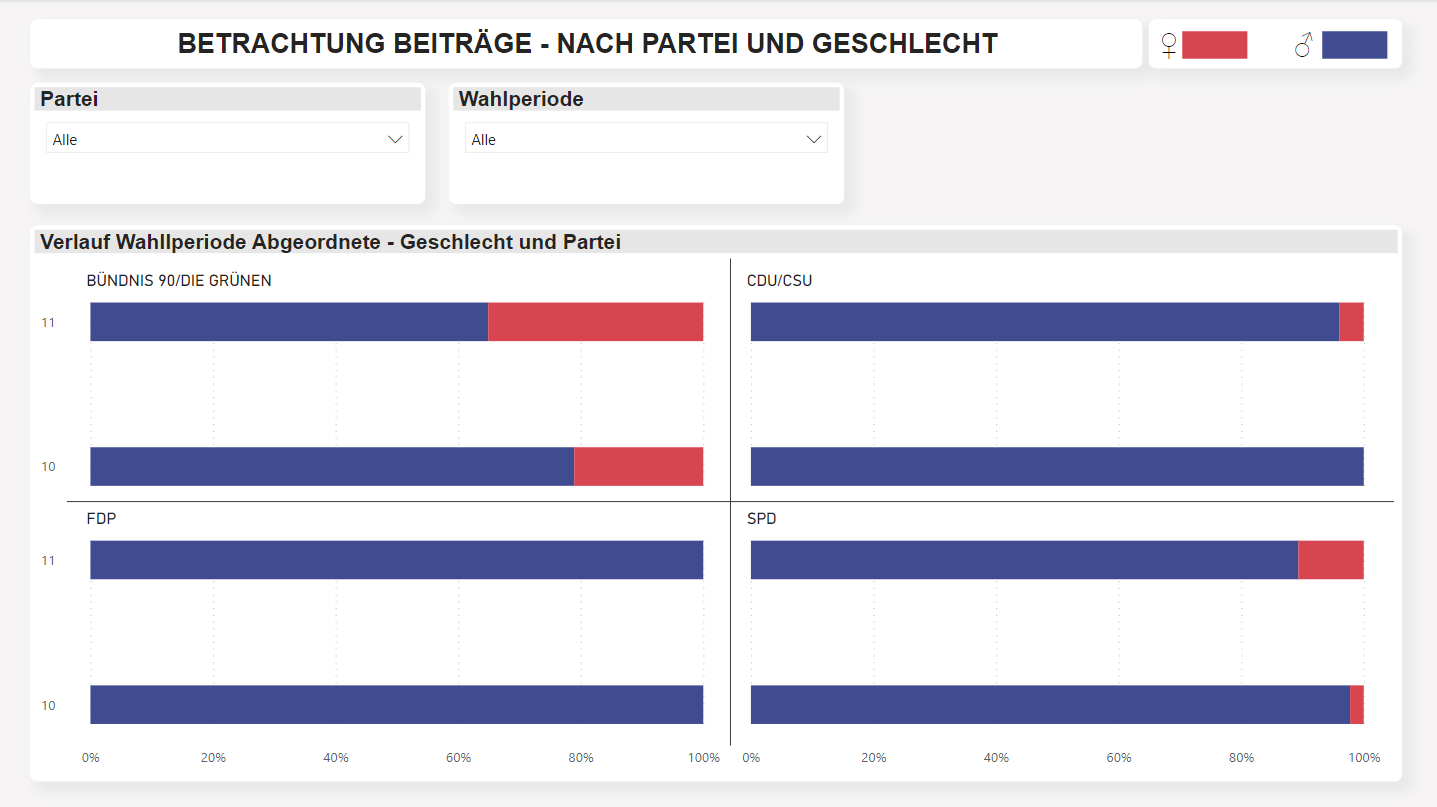

What the dashboard file says about the page in this screenshot:
{"tool":"powerbi","page":{"name":"Beiträge - ♀♂ + Partei","canvas":[1280,720],"ordinal":7},"visuals":[{"type":"textbox","box":[1022.5,18.2,225.7,43.9],"z":0,"group":"g1"},{"type":"textbox","box":[26.9,17.4,990.5,44.3],"z":1000},{"type":"shape","box":[1052.8,28.8,57.6,24.2],"z":1000,"group":"g1"},{"type":"shape","box":[1177,28.8,57.6,24.2],"z":2000,"group":"g1"},{"type":"group","id":"g1","title":"Gruppe 1","box":[1022.5,18.2,225.7,43.9],"z":6000},{"type":"hundredPercentStackedBarChart","title":"Verlauf Wahllperiode Abgeordnete - Geschlecht und Partei","fields":{"Series":["RB.GESCHLECHT"],"Category":["RB.WAHLPERIODE"],"Y":["Measure_Table.Beiträge"],"Rows":["RB.PARTEI_KURZ"]},"box":[26.5,80.8,1221.7,615.1],"z":7000}]}

Visuals, with their boxes in screenshot pixels (x1, y1, x2, y2), scaled from the page's 1280x720 canvas onto the 1437x807 screenshot:
textbox: 1148/20/1401/70
textbox: 30/20/1142/69
shape: 1182/32/1247/59
shape: 1321/32/1386/59
"Gruppe 1" group: 1148/20/1401/70
"Verlauf Wahllperiode Abgeordnete - Geschlecht und Partei" hundredPercentStackedBarChart: 30/91/1401/780
